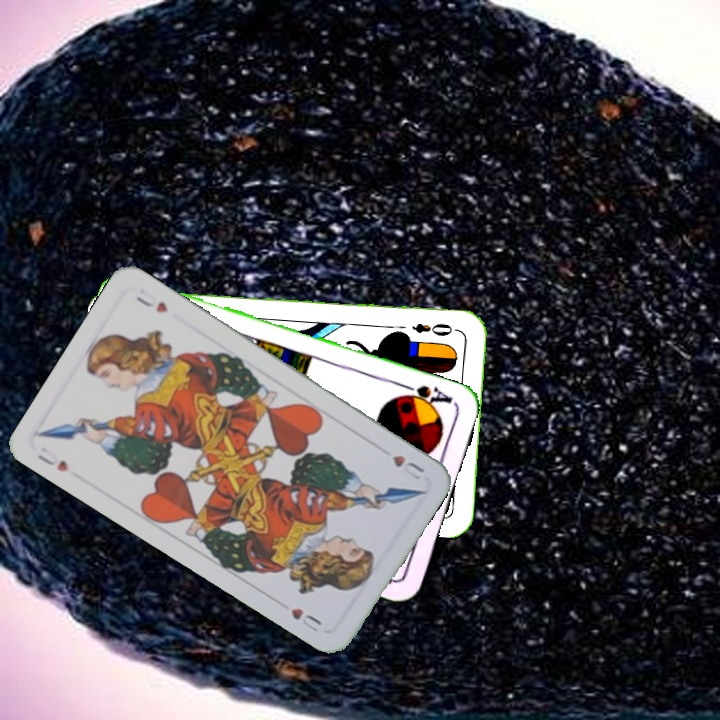EO: (408, 319, 461, 339)
HU: (388, 451, 428, 483), (33, 450, 72, 475)
SA: (395, 380, 456, 411)
